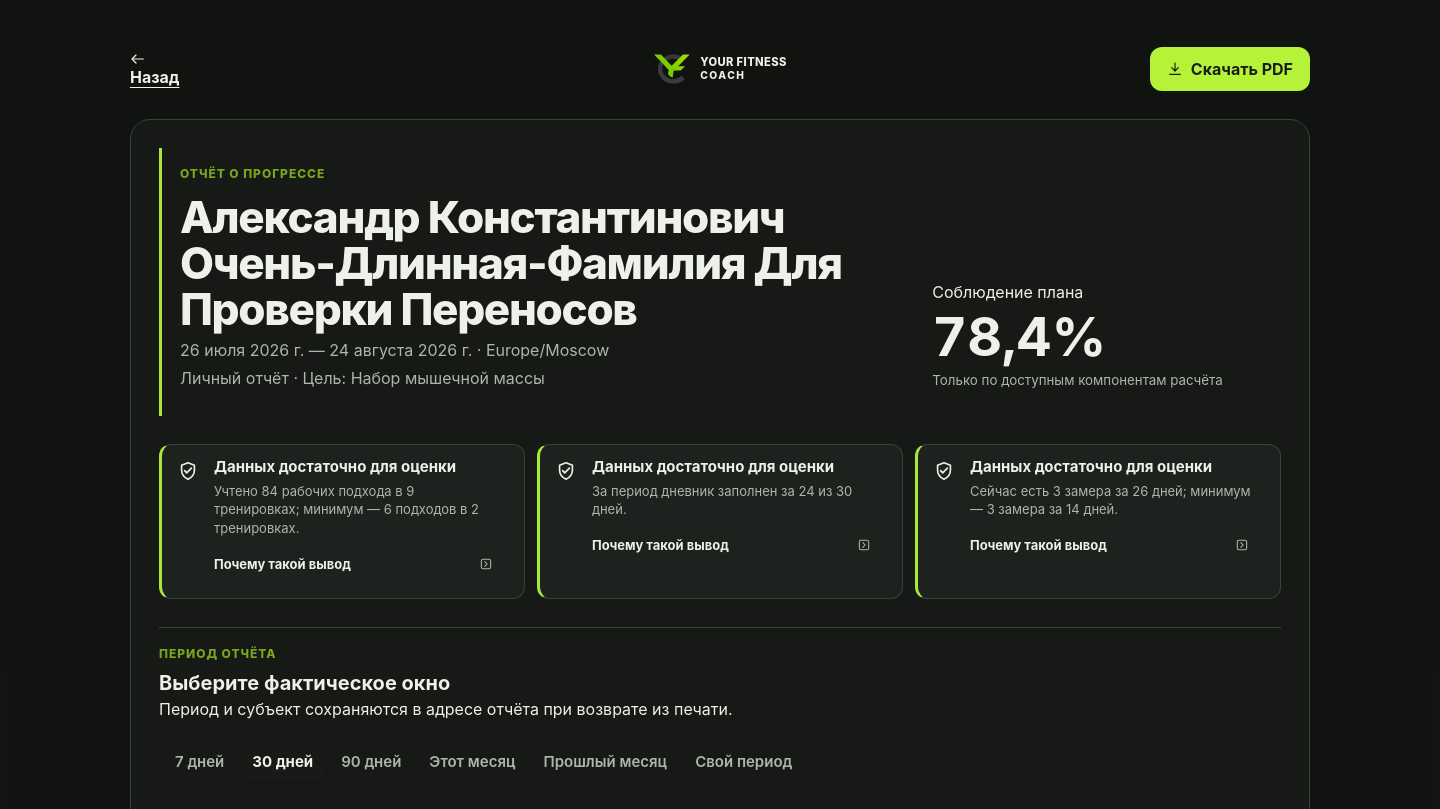
Test case: ProgressReportPage › keeps an actionable signed PDF link when native Telegram download is unavailable
Expected: the heading "Александр Константинович" is shown, [180,195,850,332]
What coordinates should you click on to do the following:
click the button "Скачать PDF"
I would click on:
 (1230, 69)
Its box is [1150,47,1310,91].
(page scrolled)
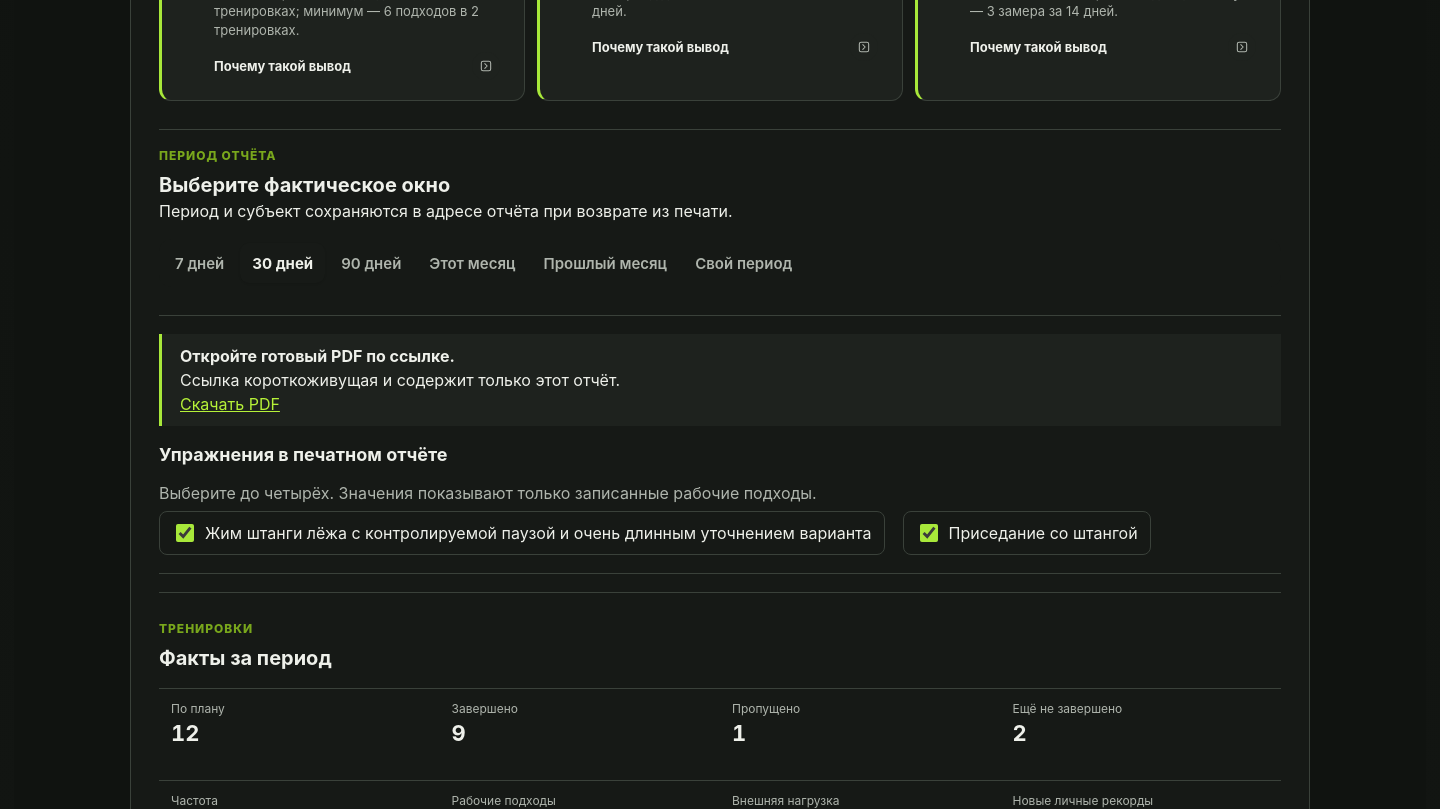
Expected: the text "Откройте готовый PDF по ссылке." is shown, [180,346,455,366]
